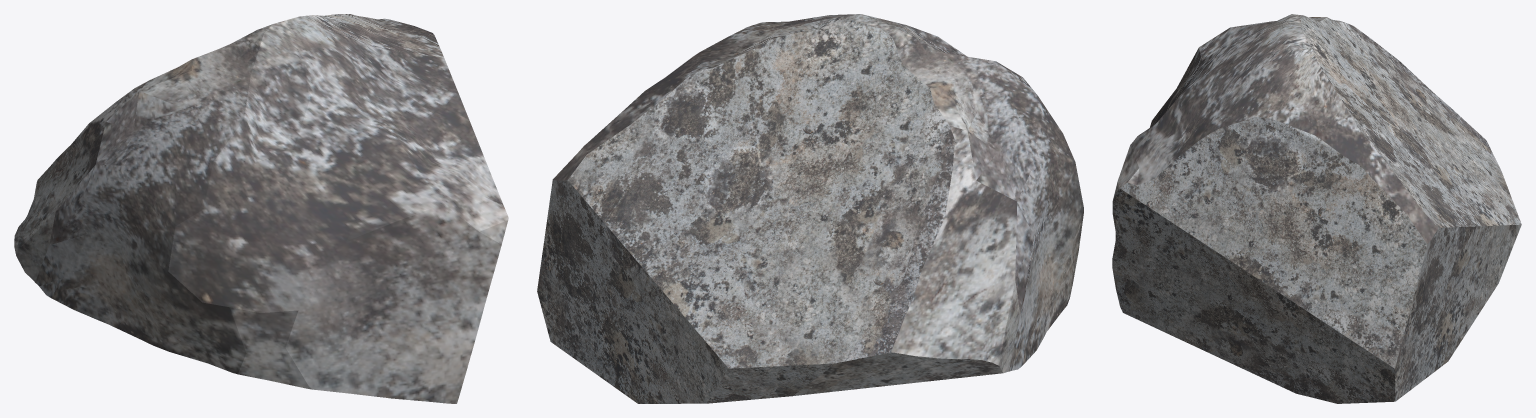
File: Asteroid_Large_001_02_009.fbx
The picture shows the model from 3 angles, left to right: view 1: azimuth 30°, elevation 25°; view 2: azimuth 150°, elevation 25°; view 3: azimuth 270°, elevation 25°; orthographic projection. The views are drawn at different scales.
Visible parts, largest first — view 1: Asteroid_Large_001_02_009; view 2: Asteroid_Large_001_02_009; view 3: Asteroid_Large_001_02_009.
Part boxes in pixels (<box>): Asteroid_Large_001_02_009: <box>14,14,508,403</box>; Asteroid_Large_001_02_009: <box>537,14,1083,403</box>; Asteroid_Large_001_02_009: <box>1112,14,1521,403</box>.
Size of the model in its own units: 34.04 by 25.56 by 31.15.
